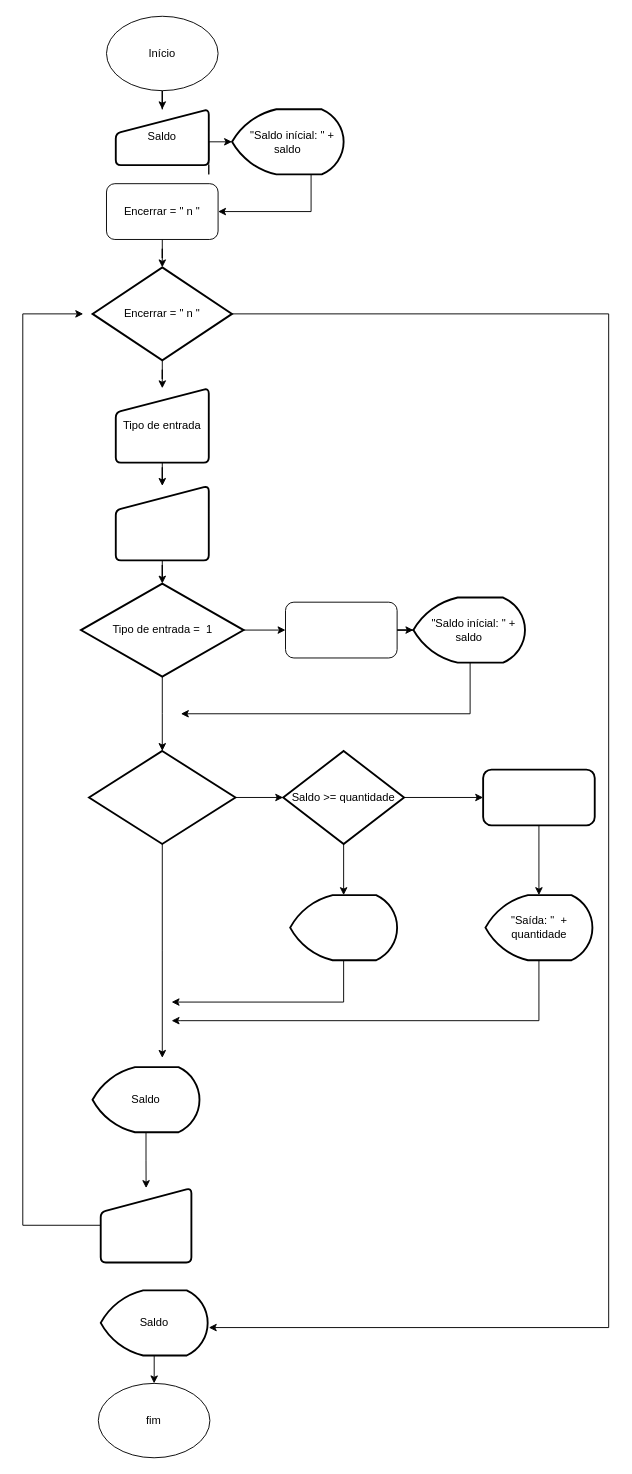
Some shapes in this 632 by 1474 pixel diagram are drawn without their labels. The shapes that lost their labels are listed below. From the top down, each one's box as (x1, y1, x2, y2) in pixels, then its label:
(114, 485, 209, 561): Quantidade
(285, 601, 397, 658): Saldo = saldo + quntidade
(88, 750, 236, 844): Tipo de entrada = 2
(482, 768, 595, 826): Saldo = saldo - quantidade
(289, 894, 398, 961): " saldo insuficiente
(99, 1187, 192, 1263): Encerrar ? (s/n)
